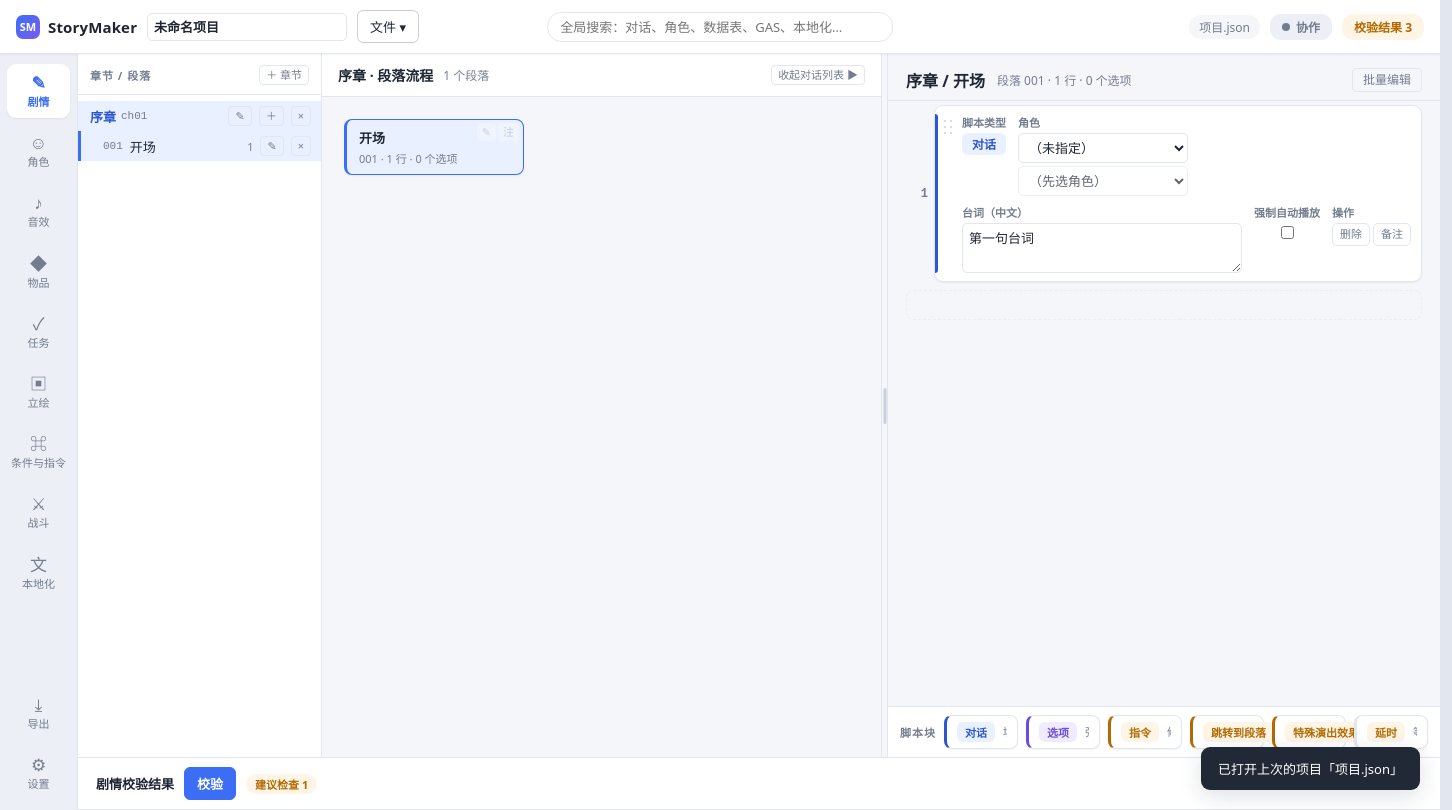
Scenario: 界面冒烟测试 › 本地化模块：剧情 / UI / 角色名 三页 › 侧边栏分三页，默认停在自动收集的剧情本地化
Expected: the field titled "项目名称，也是导出文件名" is shown, x1=147 y1=12 x2=347 y2=40
Step 1. Click the text "本地化" → click(38, 583), box x1=22 y1=576 x2=55 y2=590
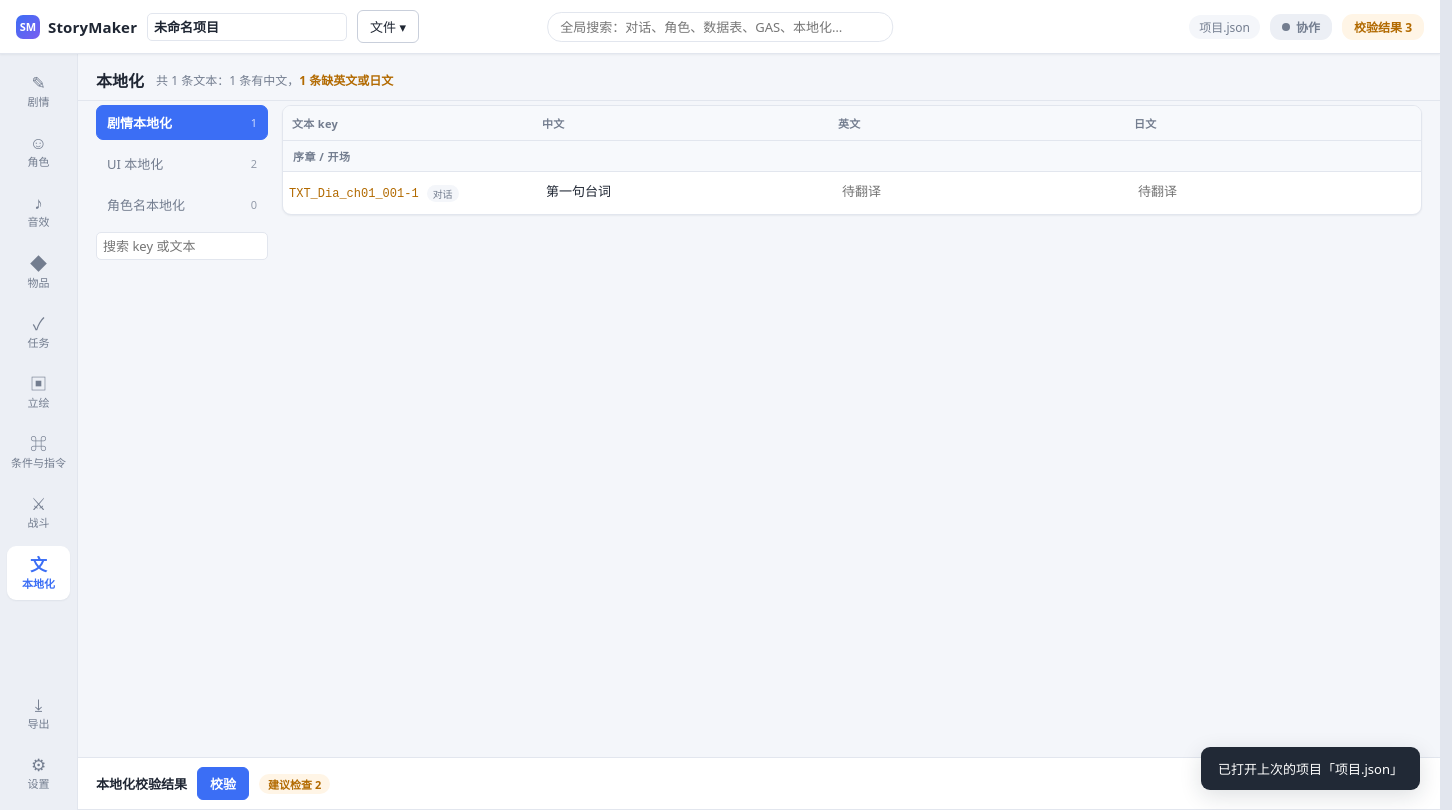
Result: the button "剧情本地化 1" is shown at x1=96 y1=105 x2=268 y2=140
Result: the button "UI 本地化 2" is shown
Result: the button "角色名本地化 0" is shown at x1=96 y1=187 x2=268 y2=222
Step 2. Click the button "UI 本地化 2" → click(182, 164), box x1=96 y1=146 x2=268 y2=181
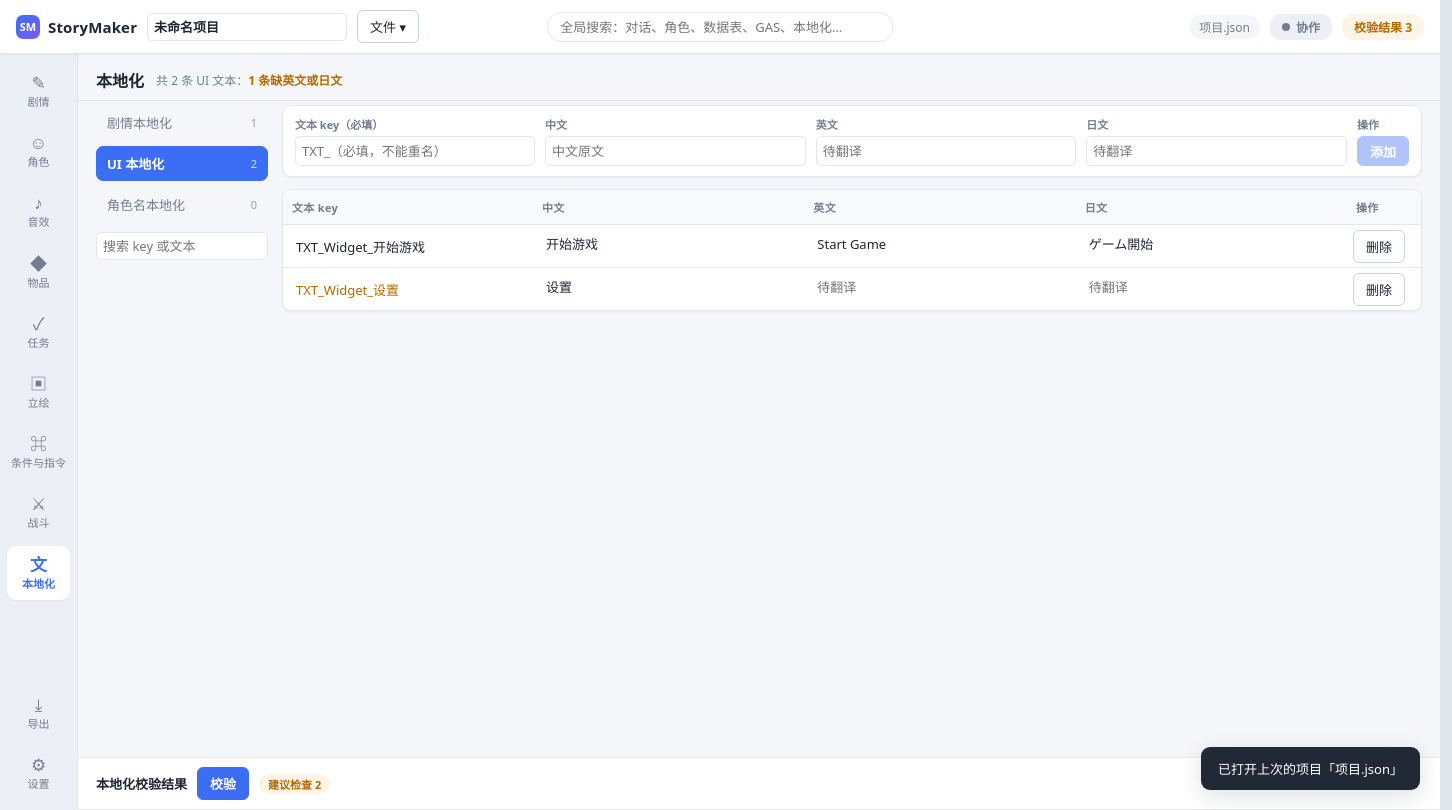
Result: the 1st field showing "TXT_Widget_开始游戏" is shown at x1=289 y1=232 x2=527 y2=260
Result: the 2nd field showing "TXT_Widget_设置" is shown at x1=289 y1=275 x2=527 y2=303
Result: the text "TXT_Dia_ch01_001-1" is gone
